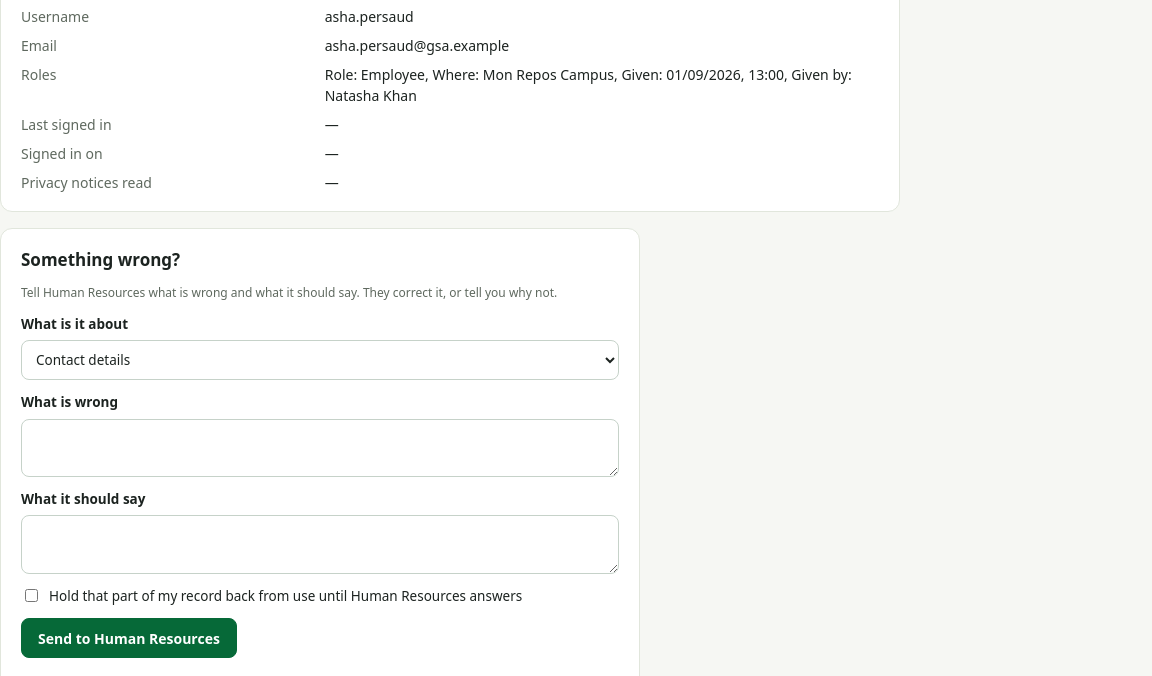
Test: my record › sends a correction request and lists the answers
This screenshot has width=1152, height=676.
(page scrolled)
Select "Contact details" in the dropdown labelled "What is it about" at (320, 360), box [21,340,619,380]
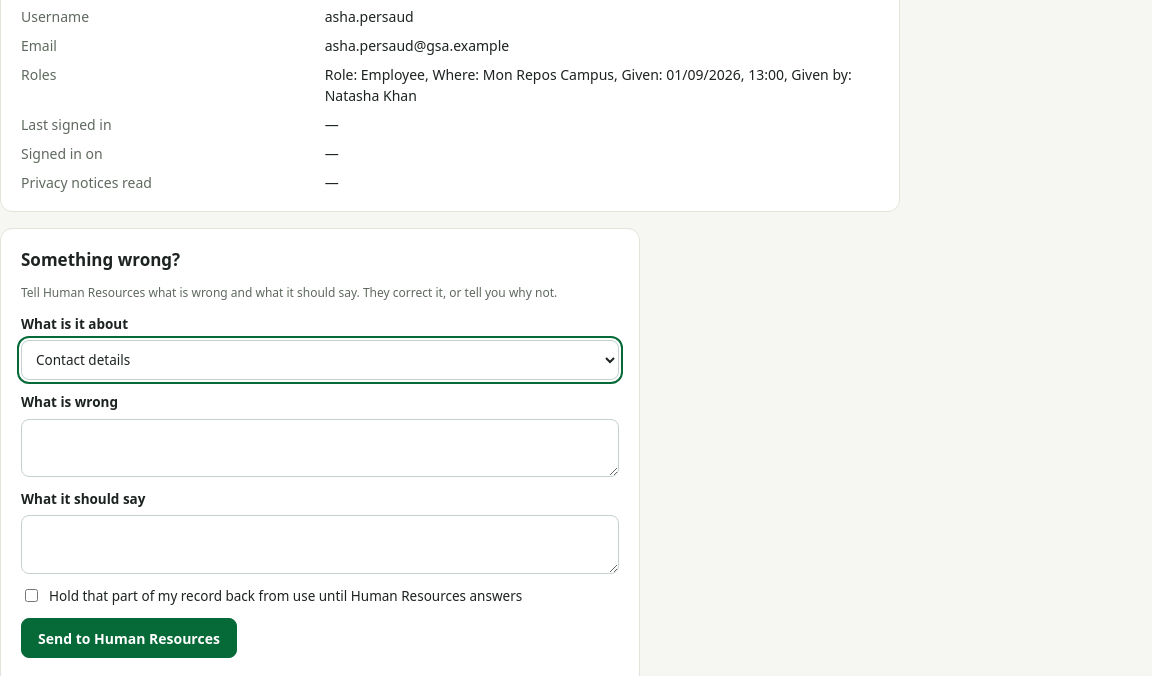
Type "My phone number is old" into the text box labelled "What is wrong" at (320, 448), box [21,419,619,477]
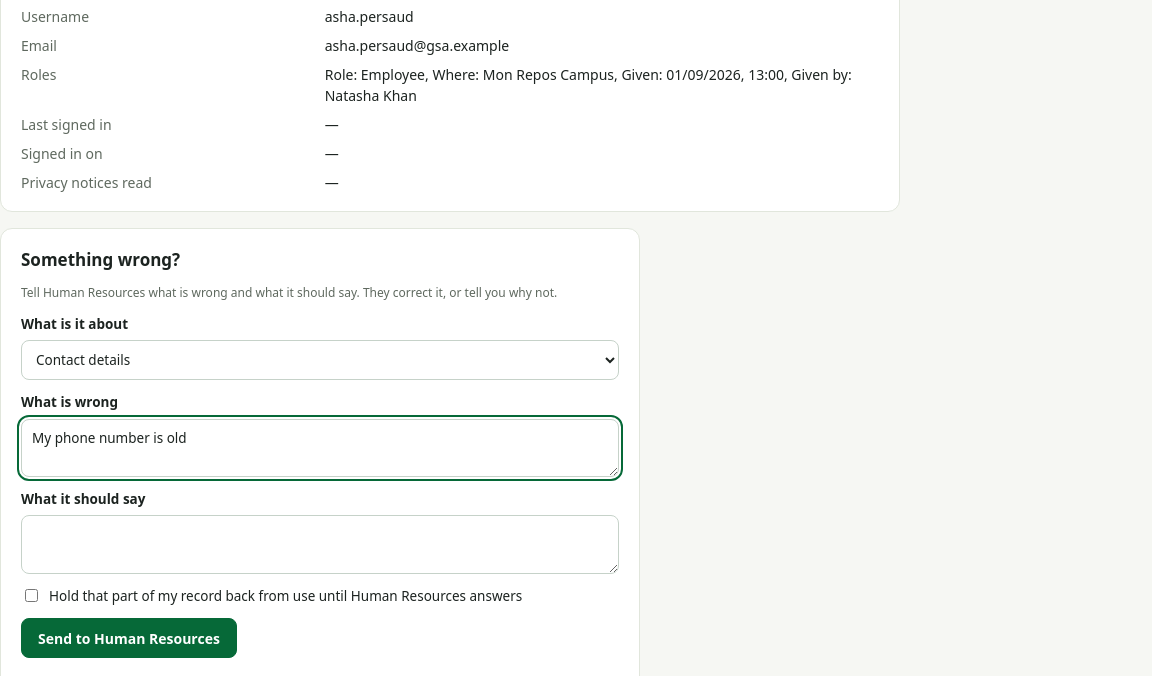
Type "592-600-1234" into the text box labelled "What it should say" at (320, 545), box [21,515,619,574]
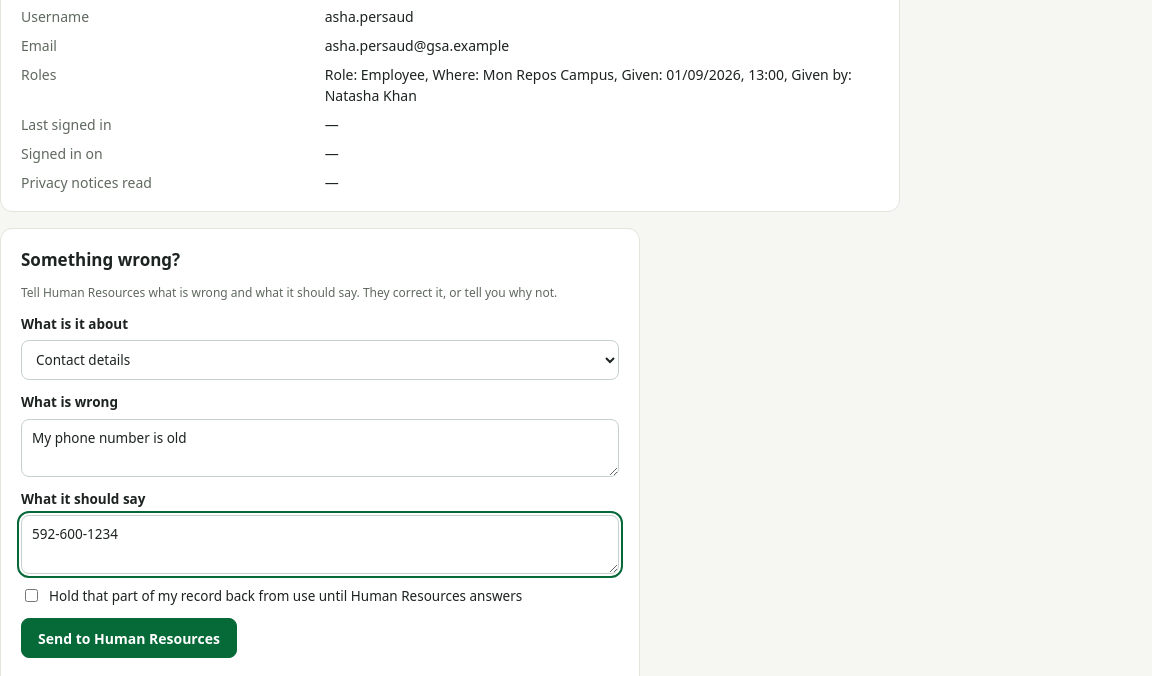
Click the button "Send to Human Resources" at (129, 638), box [21,618,237,658]
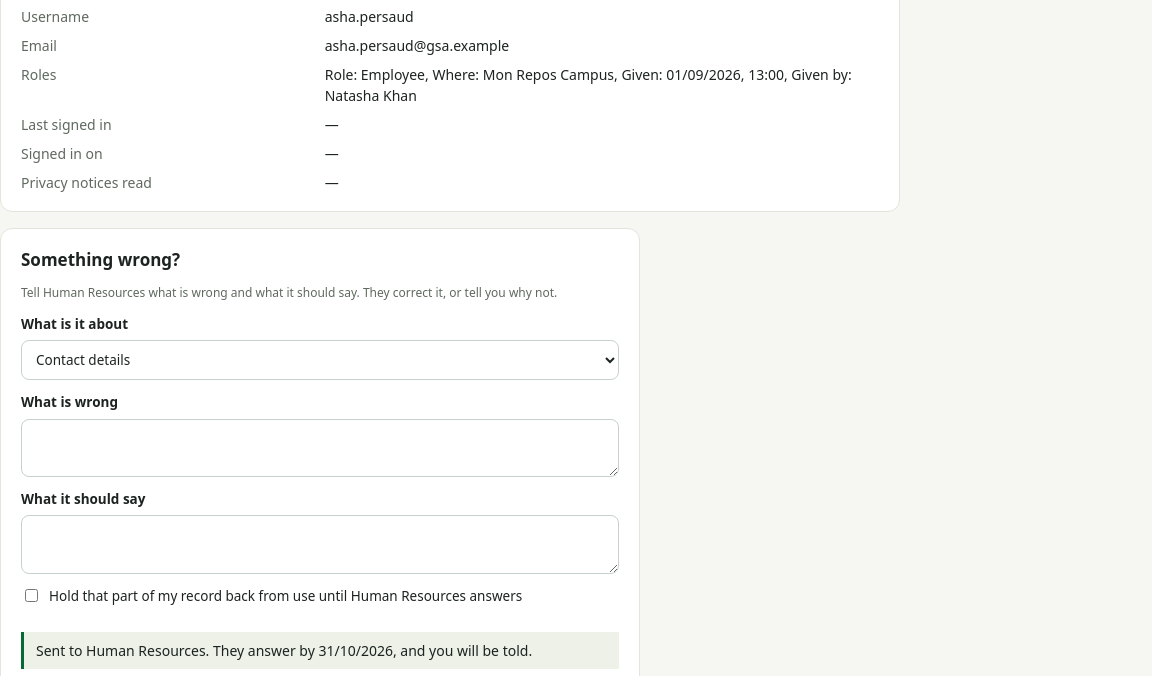
Expected: the message shows "They answer by 31/10/2026", [36,641,532,660]
